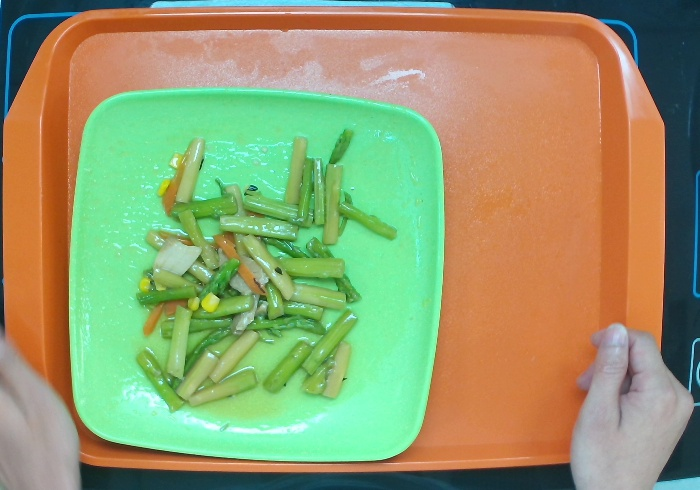ZNLD-Lv_Fang_Pan: (62, 83, 449, 466)
